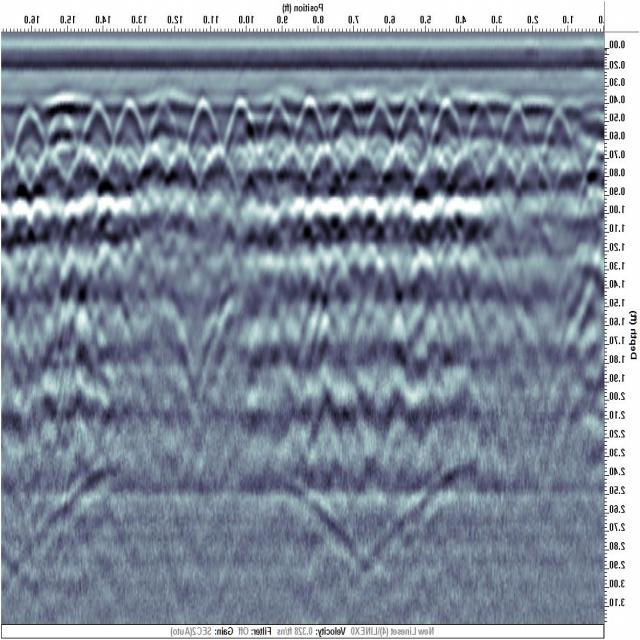hyperbola: (421, 92, 472, 164), (491, 98, 544, 164), (285, 91, 333, 158), (76, 97, 123, 163), (182, 93, 225, 164)
